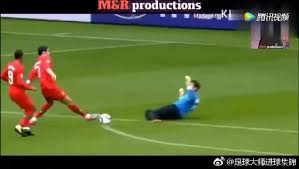fall: (144, 69, 205, 122)
